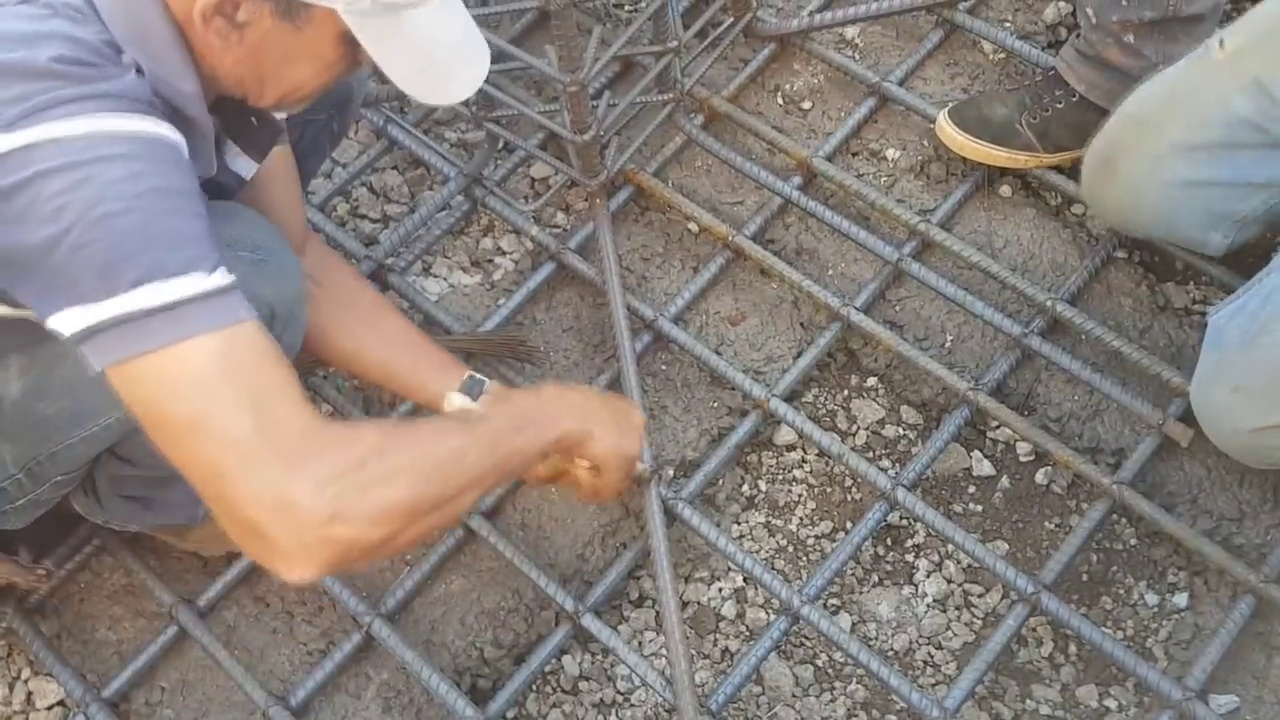helmet-off: (155, 2, 495, 108)
person: (0, 0, 640, 603)
